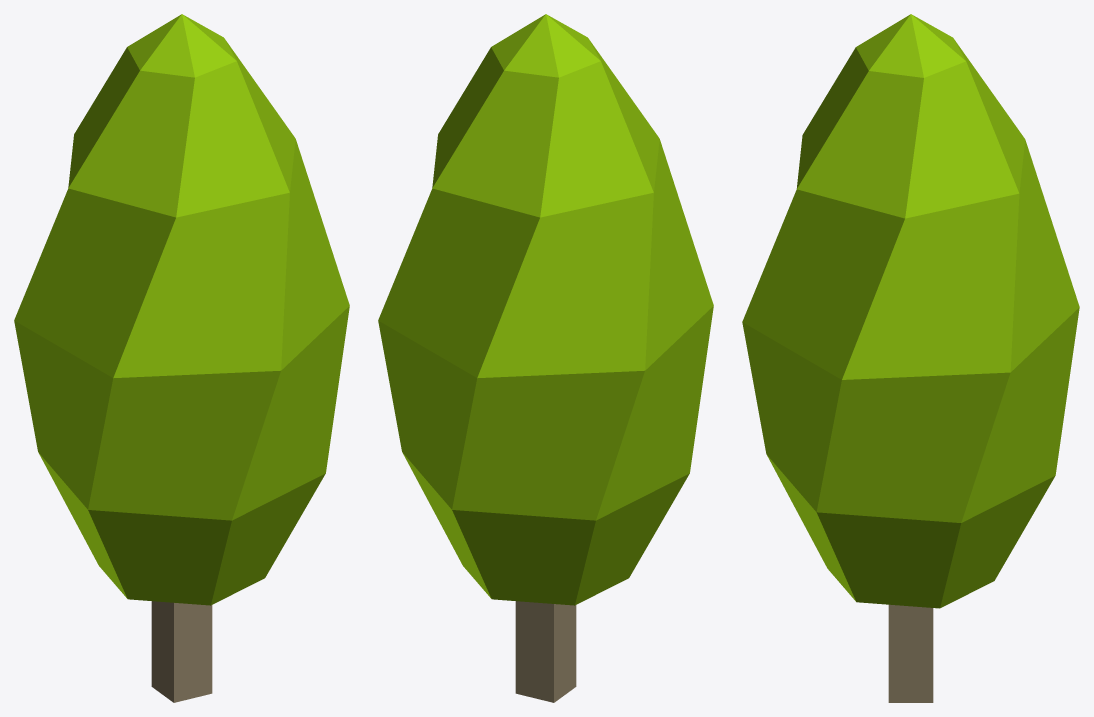
Rendered from tree_cylinder_6.fbx.
3 views of the same model, side by side, from view 1: azimuth 30°, elevation 25°; view 2: azimuth 150°, elevation 25°; view 3: azimuth 270°, elevation 25° (orthographic).
Visible parts, largest first — view 1: tree_cylinder_6; view 2: tree_cylinder_6; view 3: tree_cylinder_6.
Part boxes in pixels (left/top/right/bottom): tree_cylinder_6: left=14, top=14, right=349, bottom=702; tree_cylinder_6: left=378, top=14, right=713, bottom=702; tree_cylinder_6: left=742, top=14, right=1079, bottom=702.
Bounding box in the file's own units: 85.62 × 207 × 93.24.
